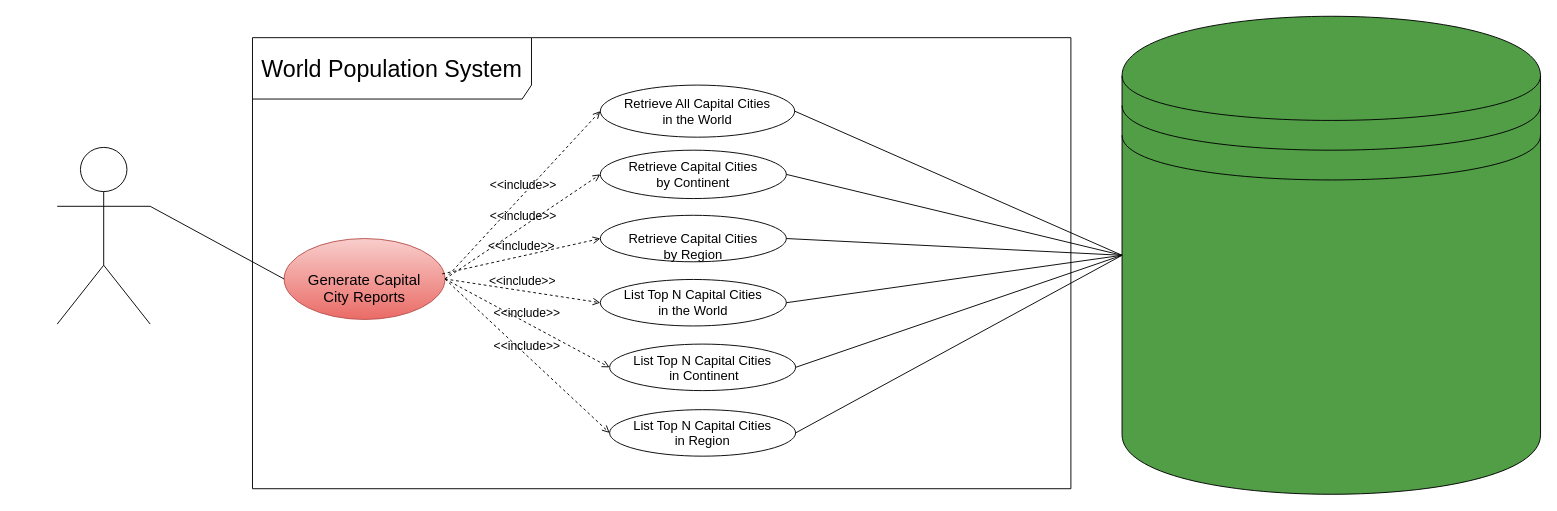
Image size: 1557x511. Some labels were removed from this diagram. The centre of each missing label's shape, as x and y in pixels:
Report Analyst: the point at 103,235
World Population DB: the point at 1331,254
